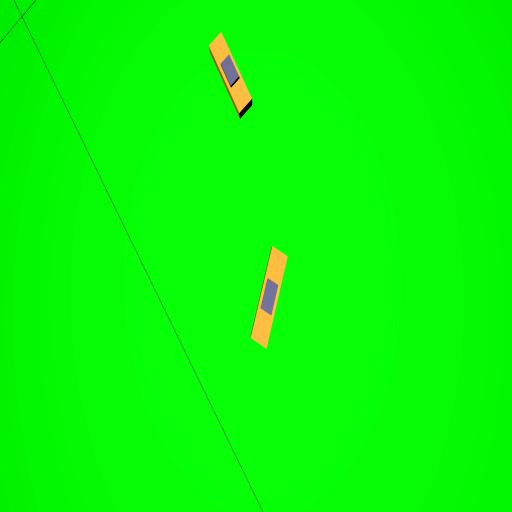objects: (249, 245, 289, 349), (205, 32, 255, 113)
